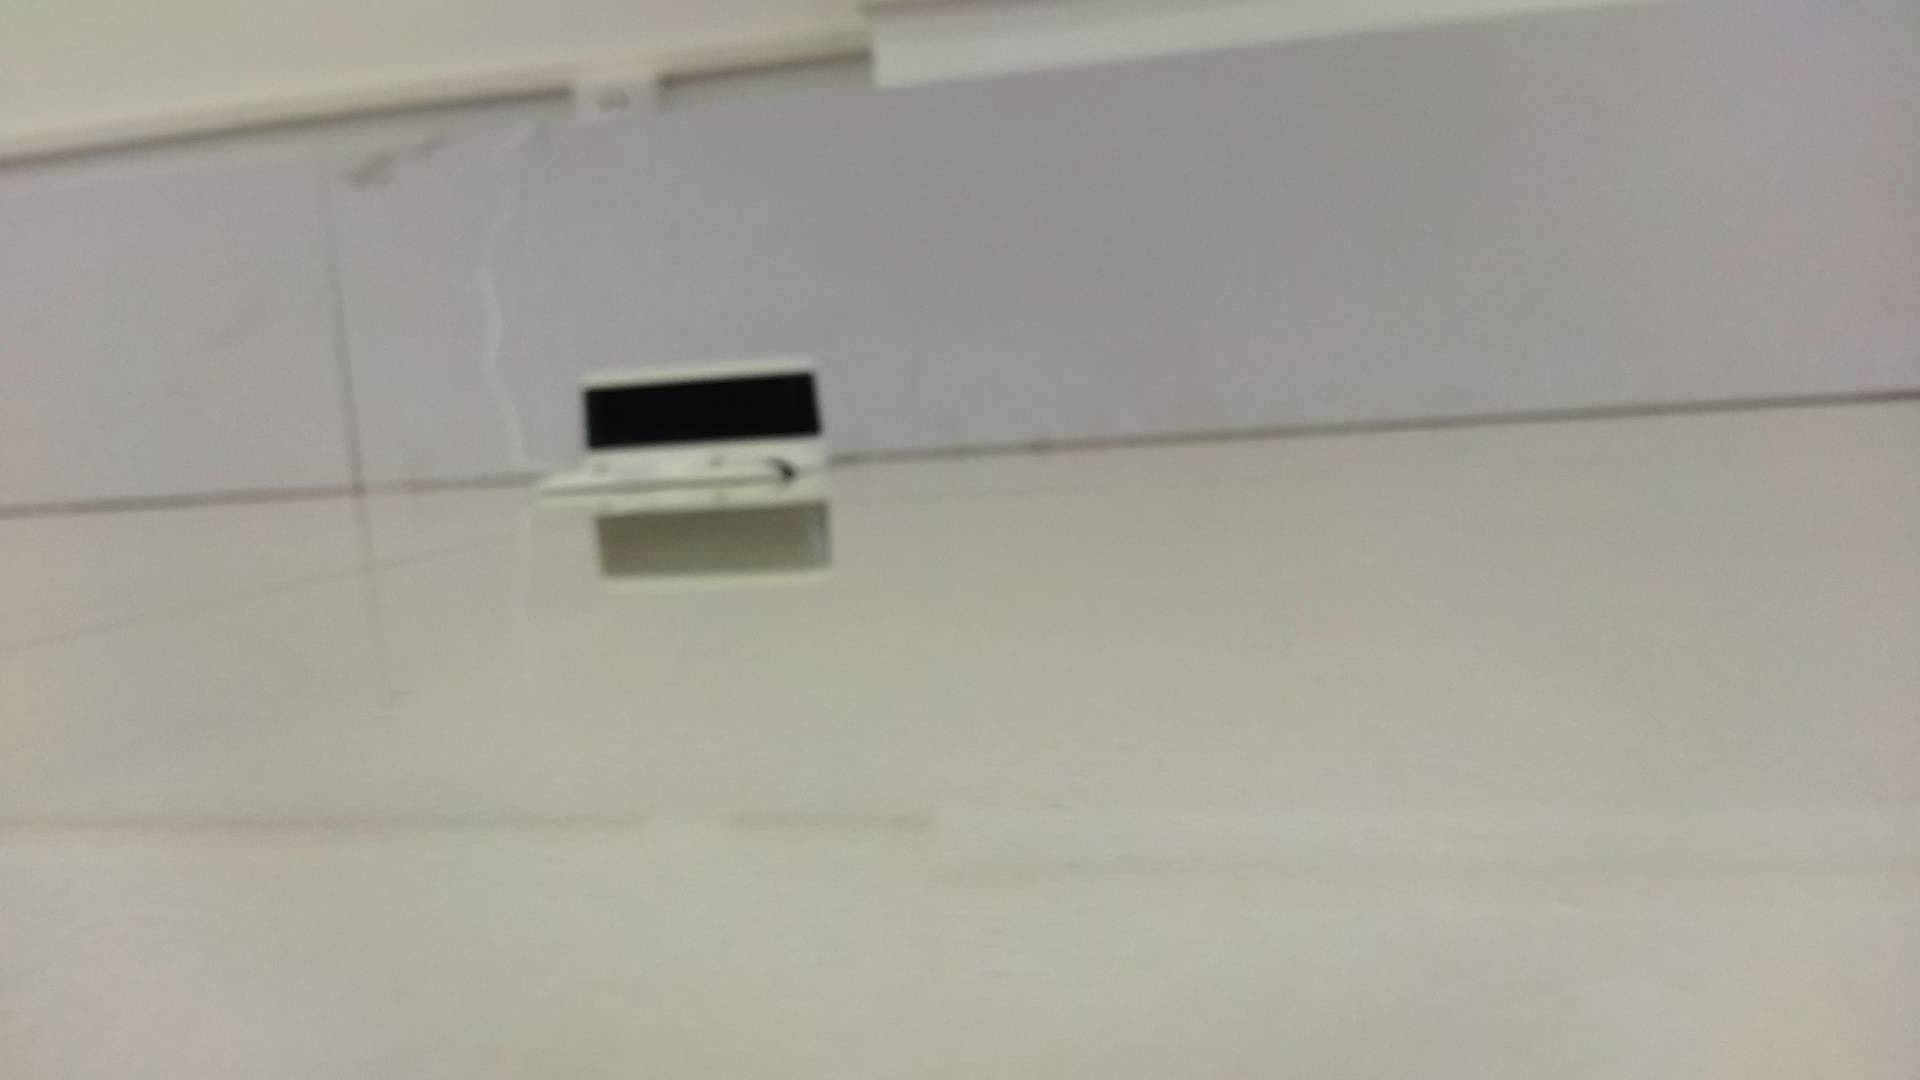recharge seat: (529, 352, 837, 502)
